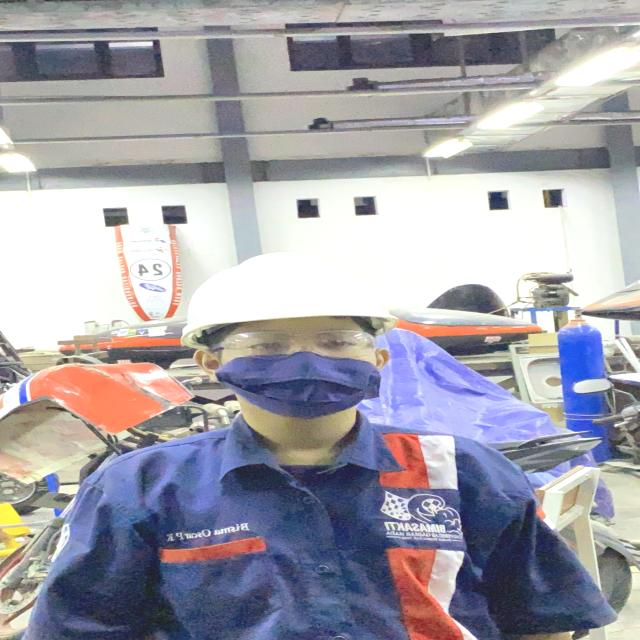face_mask: (216, 326, 389, 409)
glasses: (207, 328, 383, 362)
head_helmet: (180, 253, 400, 335)
person: (42, 249, 594, 640)
